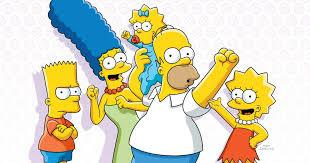Bart: (35, 59, 101, 163)
Homer: (145, 28, 223, 163)
Lisa: (203, 61, 283, 163)
Maggie: (119, 4, 175, 96)
Marge: (44, 0, 139, 163)
